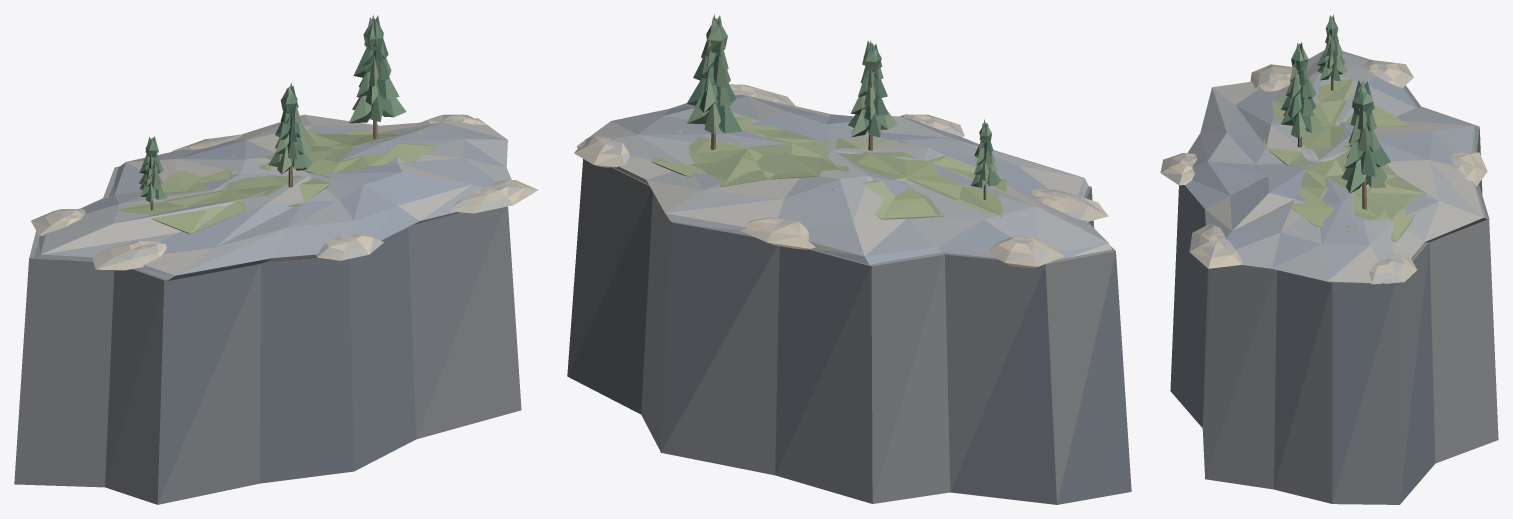
Rendered from island_far_middle.glb.
3 views of the same model, side by side, from view 1: azimuth 30°, elevation 25°; view 2: azimuth 150°, elevation 25°; view 3: azimuth 270°, elevation 25° (orthographic). The views are drawn at different scales.
Parts seen in each view (by area): view 1: island_far_middle_rockroot, island_far_middle_shoulder, island_far_middle_grasscap_west, island_far_middle_grasscap_east, island_far_middle_wetshore_05, island_far_middle_wetshore_03, island_far_middle_wetshore_04, island_far_middle_pine_03_crown_tier_00, island_far_middle_wetshore_02, island_far_middle_pine_03_crown_tier_01, island_far_middle_pine_03_crown_tier_02, island_far_middle_pine_02_crown_tier_00; view 2: island_far_middle_rockroot, island_far_middle_shoulder, island_far_middle_grasscap_west, island_far_middle_grasscap_east, island_far_middle_wetshore_02, island_far_middle_wetshore_01, island_far_middle_wetshore_03, island_far_middle_wetshore_00, island_far_middle_pine_03_crown_tier_00, island_far_middle_pine_03_crown_tier_01, island_far_middle_pine_02_crown_tier_00, island_far_middle_pine_03_crown_tier_02; view 3: island_far_middle_rockroot, island_far_middle_shoulder, island_far_middle_grasscap_east, island_far_middle_grasscap_west, island_far_middle_wetshore_05, island_far_middle_wetshore_00, island_far_middle_wetshore_03, island_far_middle_wetshore_04, island_far_middle_wetshore_02, island_far_middle_pine_03_crown_tier_01, island_far_middle_wetshore_01, island_far_middle_pine_03_crown_tier_00 (+5 smaller).
Boxes of the visible parts, x1,y1,x2,y2 form: island_far_middle_rockroot: (14, 166, 521, 504); island_far_middle_shoulder: (34, 114, 511, 280); island_far_middle_grasscap_west: (116, 153, 330, 233); island_far_middle_grasscap_east: (266, 128, 436, 177); island_far_middle_wetshore_05: (451, 180, 538, 213); island_far_middle_wetshore_03: (92, 240, 166, 270); island_far_middle_wetshore_04: (316, 233, 383, 260); island_far_middle_pine_03_crown_tier_00: (349, 94, 406, 123); island_far_middle_wetshore_02: (31, 208, 85, 235); island_far_middle_pine_03_crown_tier_01: (356, 71, 399, 105); island_far_middle_pine_03_crown_tier_02: (353, 48, 391, 86); island_far_middle_pine_02_crown_tier_00: (268, 146, 312, 174); island_far_middle_rockroot: (567, 159, 1131, 504); island_far_middle_shoulder: (577, 94, 1111, 264); island_far_middle_grasscap_west: (803, 138, 1006, 219); island_far_middle_grasscap_east: (651, 116, 828, 186); island_far_middle_wetshore_02: (988, 235, 1064, 268); island_far_middle_wetshore_01: (740, 217, 815, 249); island_far_middle_wetshore_03: (1032, 189, 1108, 221); island_far_middle_wetshore_00: (574, 136, 629, 167); island_far_middle_pine_03_crown_tier_00: (687, 97, 742, 134); island_far_middle_pine_03_crown_tier_01: (687, 78, 735, 112); island_far_middle_pine_02_crown_tier_00: (848, 109, 897, 137); island_far_middle_pine_03_crown_tier_02: (693, 54, 730, 92); island_far_middle_rockroot: (1170, 51, 1498, 504); island_far_middle_shoulder: (1185, 50, 1487, 283); island_far_middle_grasscap_east: (1291, 159, 1426, 241); island_far_middle_grasscap_west: (1262, 79, 1409, 165); island_far_middle_wetshore_05: (1189, 224, 1242, 268); island_far_middle_wetshore_00: (1369, 253, 1417, 284); island_far_middle_wetshore_03: (1250, 64, 1292, 91); island_far_middle_wetshore_04: (1160, 153, 1197, 185); island_far_middle_wetshore_02: (1363, 60, 1413, 88); island_far_middle_pine_03_crown_tier_01: (1344, 141, 1390, 176); island_far_middle_wetshore_01: (1450, 151, 1487, 186); island_far_middle_pine_03_crown_tier_00: (1341, 159, 1387, 193).
Bounding box in the file's own units: 72.71 × 51.28 × 41.84.
